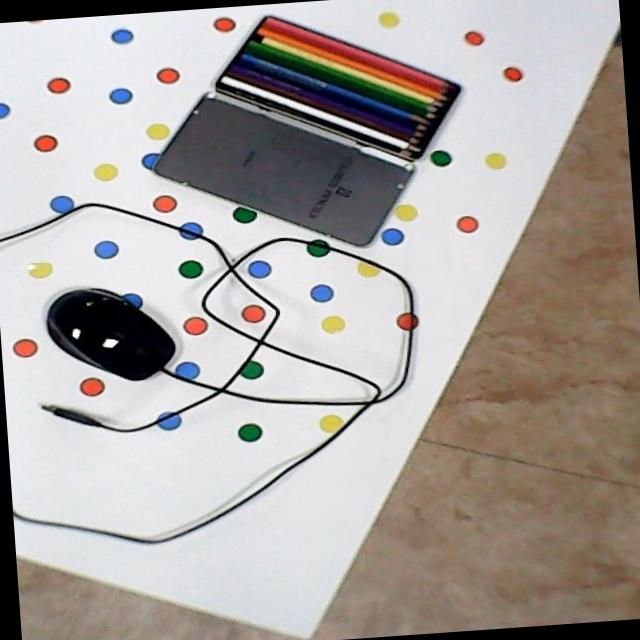color: (205, 7, 473, 166)
mouse: (37, 280, 182, 387)
